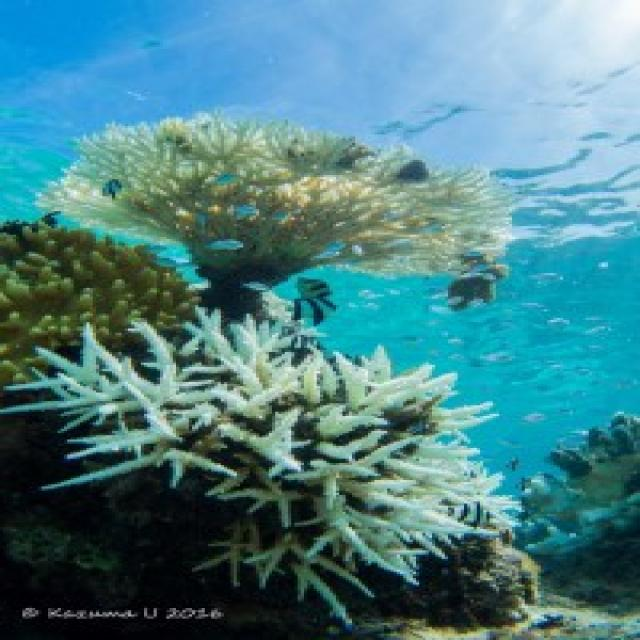Bleached: (1, 308, 516, 615), (39, 114, 510, 283)
Healthy: (1, 221, 196, 387)
